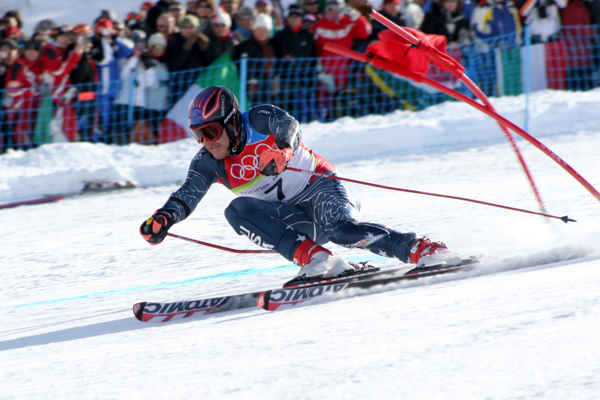skier: (91, 79, 504, 347)
